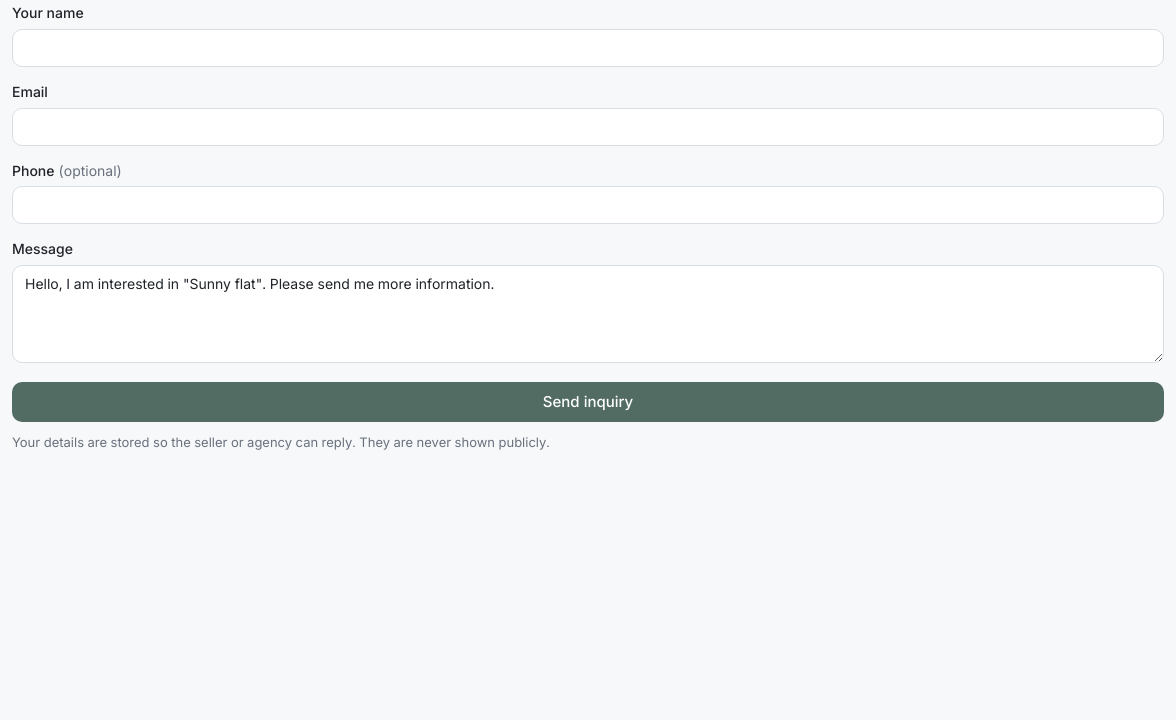
it: inquiry form › validates before sending
Clear the field labelled "Your name" at (588, 48), box [12, 29, 1164, 67]
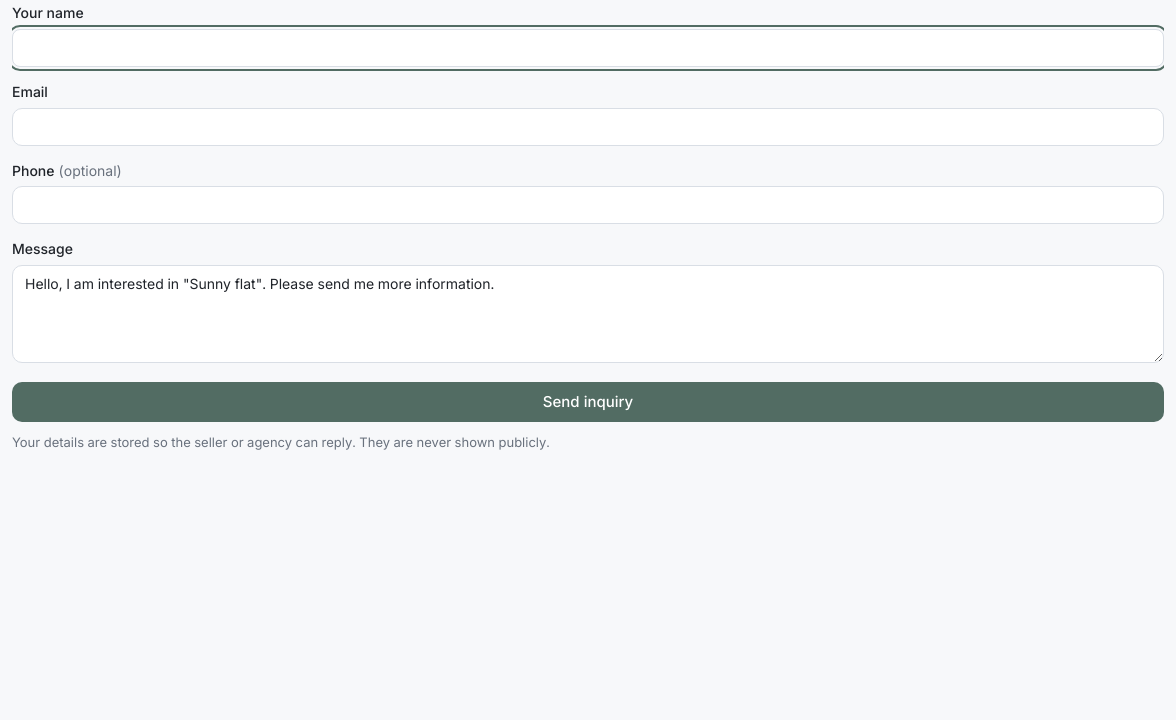
Type "nope" into the field labelled "Email".
click(588, 127); type("nope")  # box [12, 108, 1164, 146]
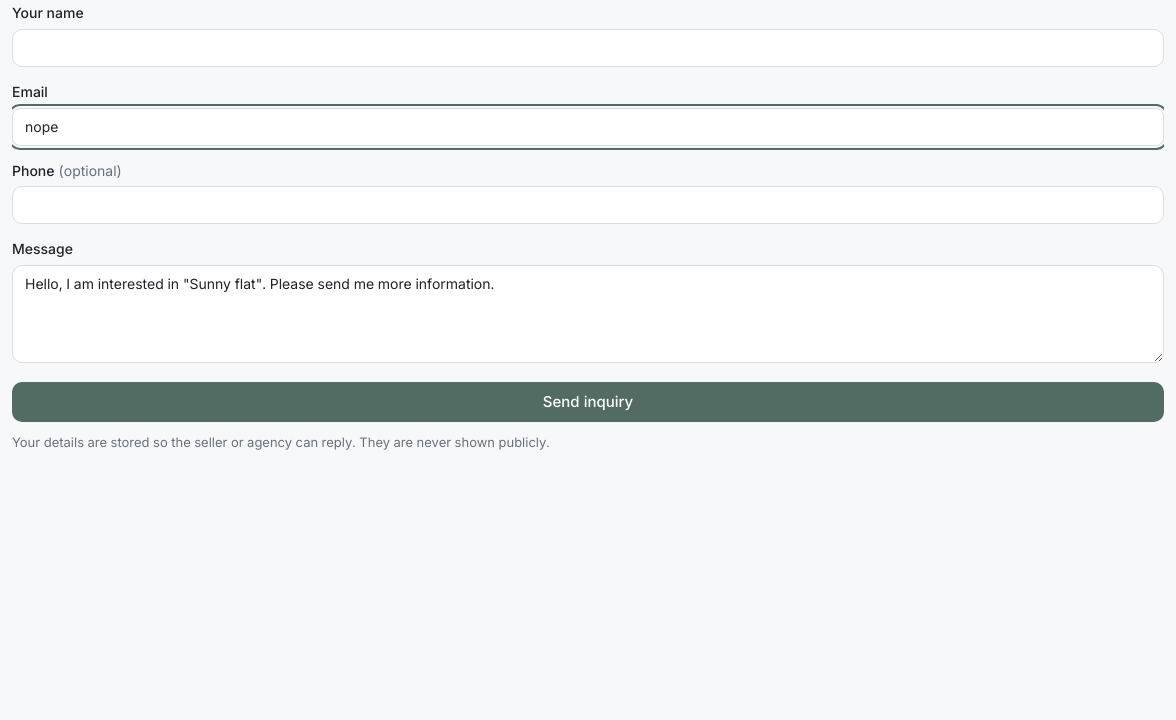
Replace the text in the text box labelled "Message" with "short" at (588, 314), box [12, 265, 1164, 363]
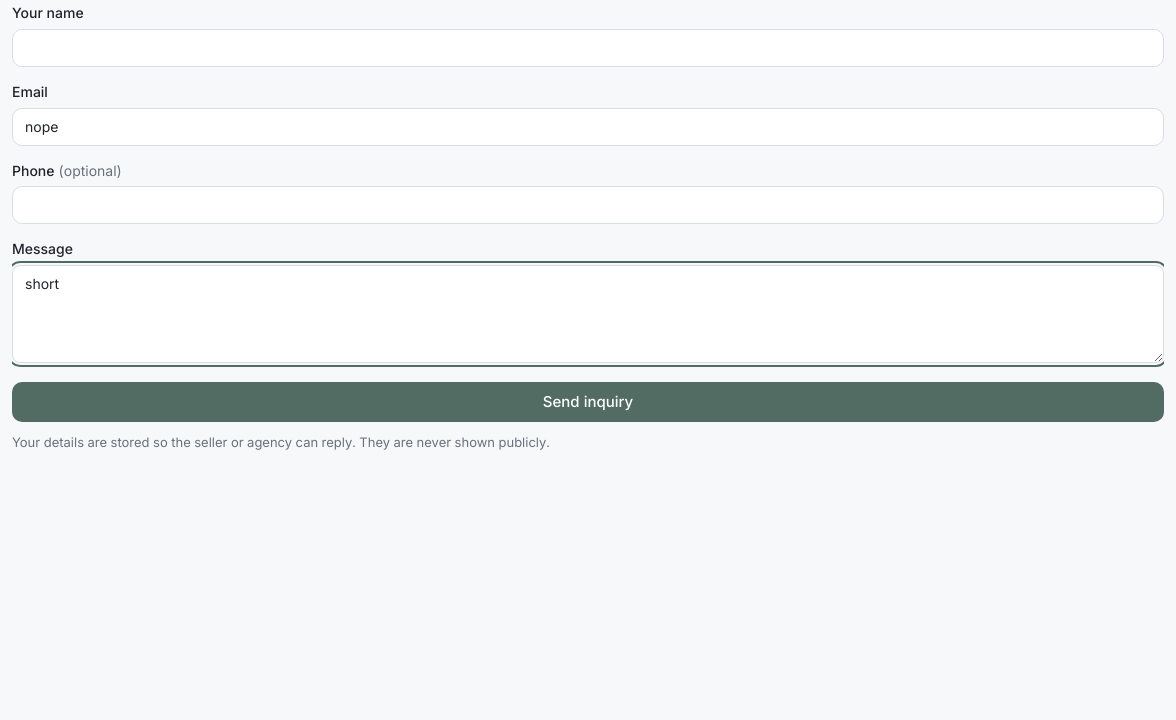
Click the button "Send inquiry".
click(588, 402)  # box [12, 382, 1164, 422]
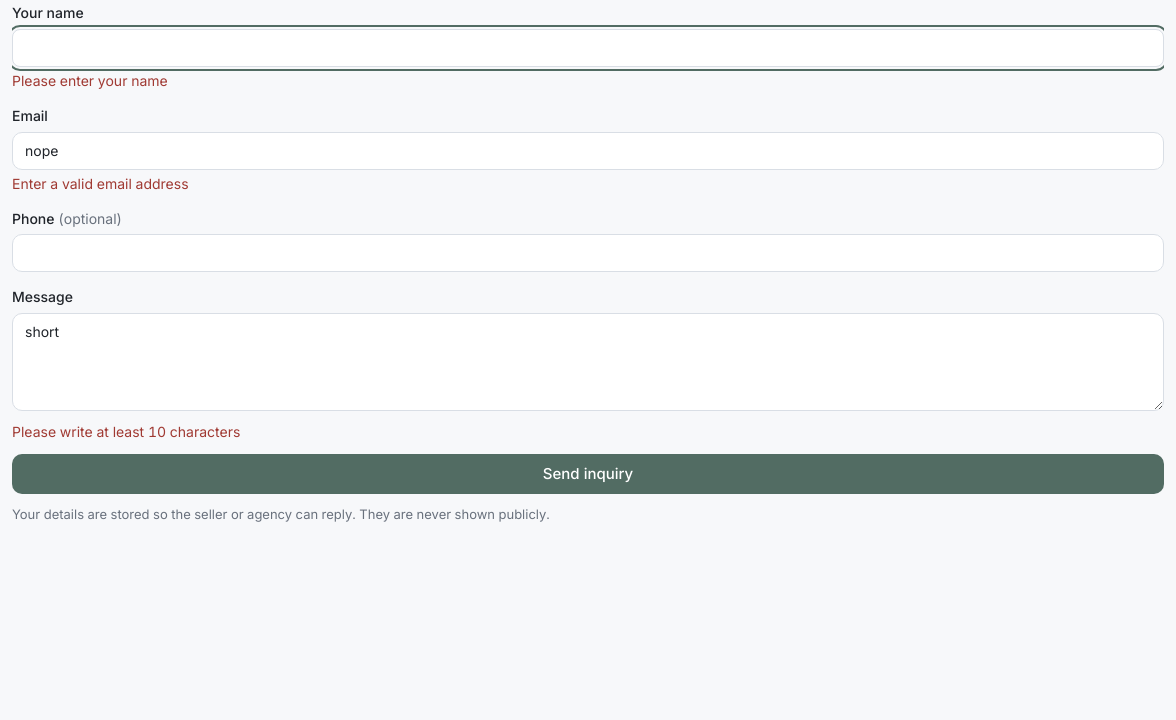
Result: the text "Please enter your name" is shown at [12, 72, 168, 89]
Result: the text "Enter a valid email address" is shown at [12, 175, 188, 192]
Result: the text "Please write at least 10 characters" is shown at [12, 423, 240, 440]
